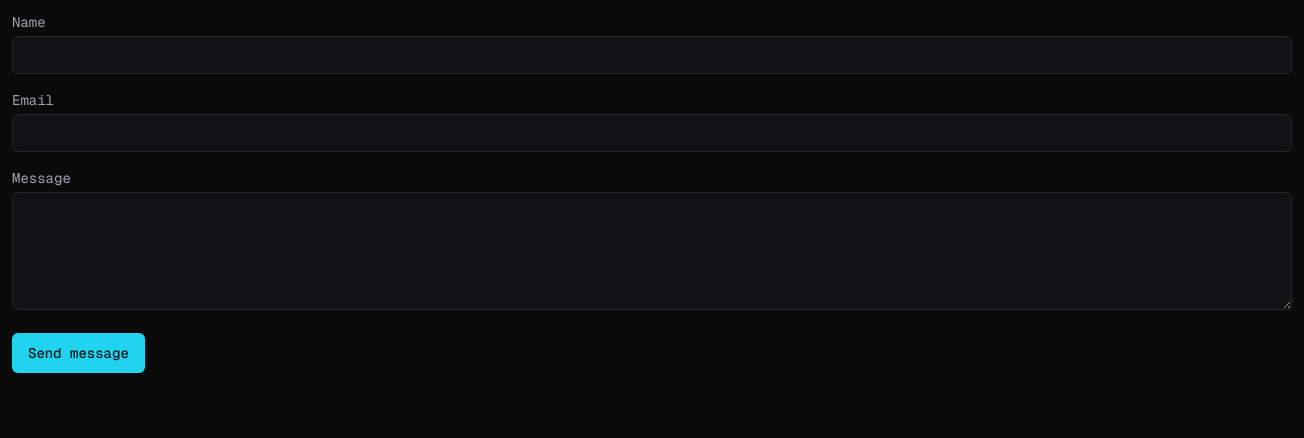
Test: ContactForm › moves focus to the first invalid field after an error response
Click the button "Send message". click: click(78, 353)
box: [12,333,145,373]
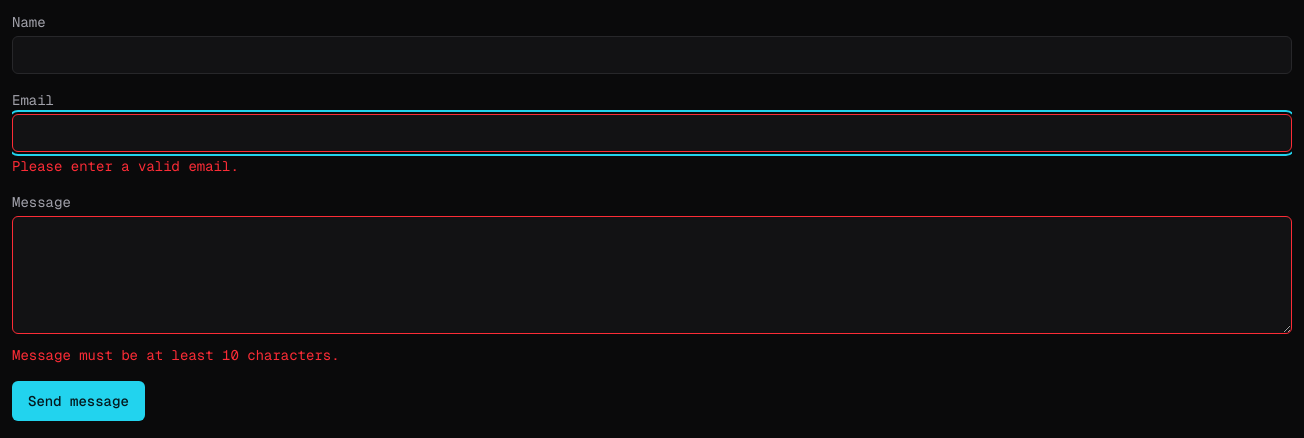
Result: the text "Please enter a valid email." is shown at [12,157,239,175]
